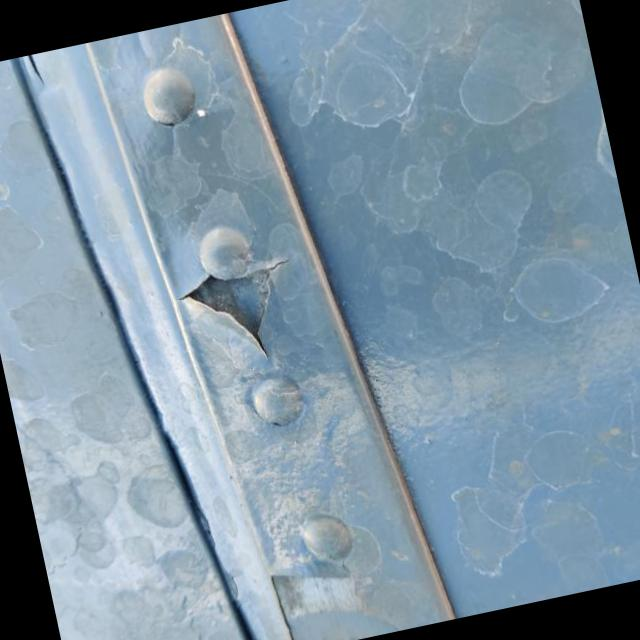Paint-off: (181, 254, 285, 383)
